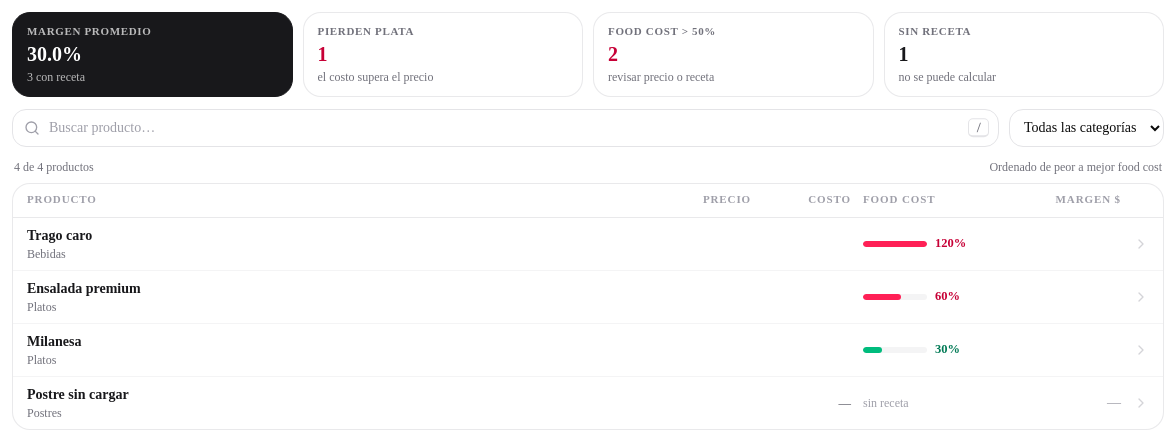
CosteoTab (spec 205 · D11) › KPI «Food cost > 50%» usa el mismo corte que foodCostTone=bad
Click the button "Food cost > 50% 2 revisar precio o receta" at (662, 31), box [593,12,874,96]
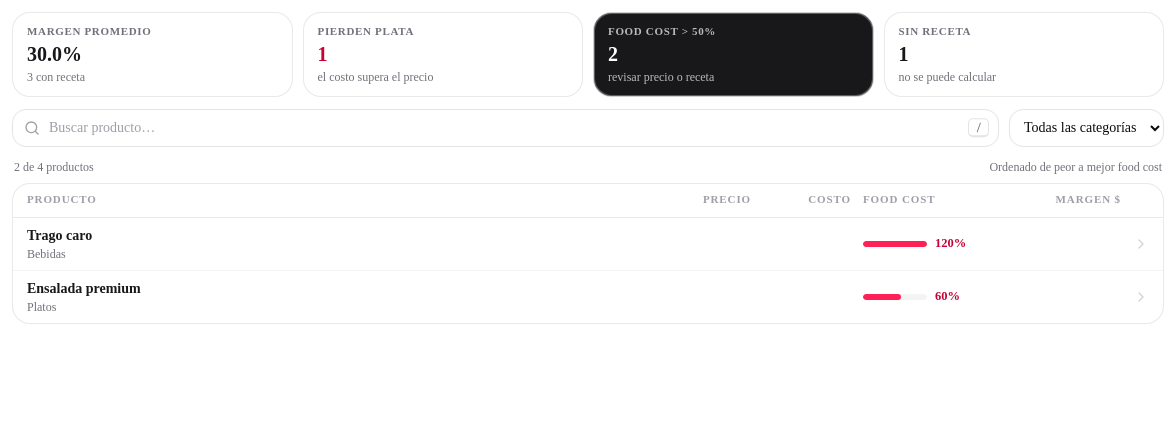
Expected: the text "Ensalada premium" is shown, [27,280,141,296]
Now the text "Milanesa" is gone
